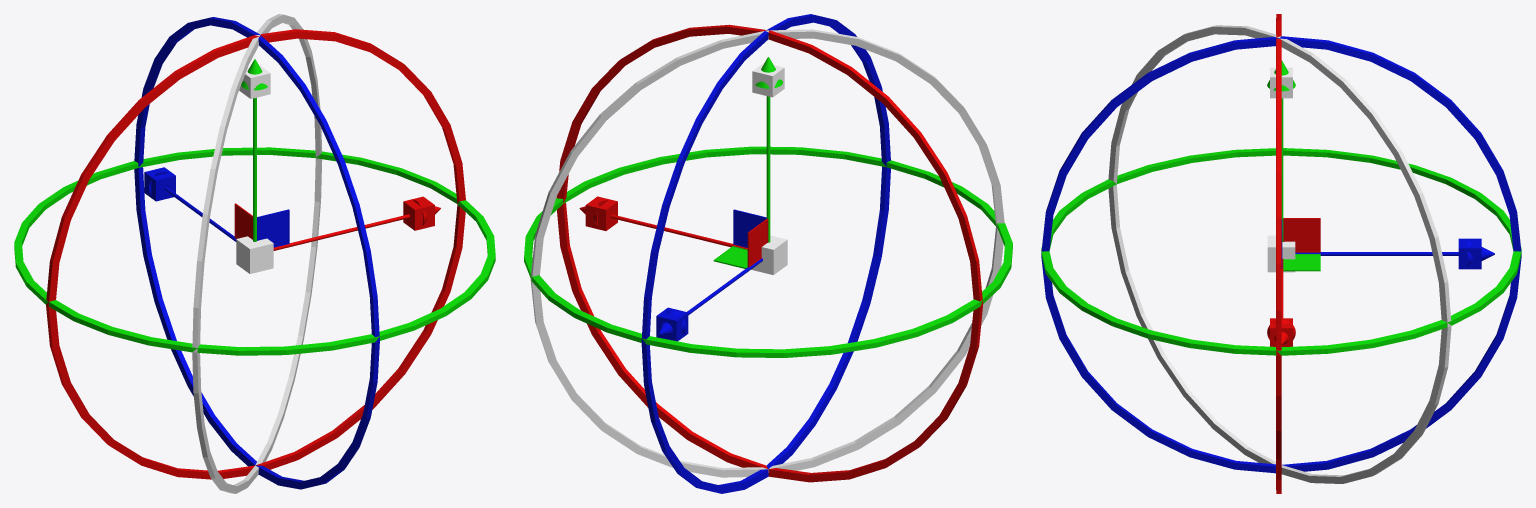
File: LevelEditorGizmos.fbx
3 views of the same model, side by side, from view 1: azimuth 30°, elevation 25°; view 2: azimuth 150°, elevation 25°; view 3: azimuth 270°, elevation 25° (orthographic).
Visible parts, largest first — view 1: RightRotation, ForwardRotation, UpRotation, ViewRotation, AllScale, RightScale, UpRightDirection, ForwardScale, UpDirection, UpScale, UpForwardDirection; view 2: ViewRotation, RightRotation, ForwardRotation, UpRotation, UpDirection, RightScale, AllScale, UpScale, UpRightDirection, ForwardScale, UpForwardDirection, ForwardDirection (+2 smaller); view 3: ForwardRotation, ViewRotation, UpRotation, RightRotation, UpForwardDirection, ForwardScale, ForwardDirection, AllScale, RightForwardDirection, UpDirection.
Boxes of the visible parts, box(x1,y1,x2,y2) form: RightRotation: box(46, 29, 465, 479); ForwardRotation: box(134, 17, 379, 489); UpRotation: box(14, 147, 495, 355); ViewRotation: box(192, 14, 322, 493); AllScale: box(236, 236, 273, 273); RightScale: box(273, 196, 434, 250); UpRightDirection: box(257, 209, 289, 247); ForwardScale: box(144, 167, 235, 241); UpDirection: box(241, 59, 267, 241); UpScale: box(239, 65, 270, 98); UpForwardDirection: box(234, 203, 252, 239); ViewRotation: box(530, 29, 1004, 477); RightRotation: box(556, 24, 983, 482); ForwardRotation: box(641, 14, 890, 493); UpRotation: box(524, 146, 1012, 357); UpDirection: box(755, 57, 782, 242); RightScale: box(585, 196, 730, 247); AllScale: box(751, 235, 787, 274); UpScale: box(752, 62, 784, 97); UpRightDirection: box(733, 209, 766, 247); ForwardScale: box(656, 307, 688, 341); UpForwardDirection: box(747, 219, 768, 267); ForwardDirection: box(659, 258, 762, 335); ForwardRotation: box(1041, 36, 1521, 473); ViewRotation: box(1108, 25, 1451, 483); UpRotation: box(1041, 148, 1521, 355); RightRotation: box(1276, 14, 1281, 493); UpForwardDirection: box(1283, 218, 1320, 252); ForwardScale: box(1320, 238, 1481, 269); ForwardDirection: box(1295, 240, 1494, 265); AllScale: box(1267, 235, 1295, 272); RightForwardDirection: box(1283, 254, 1320, 271); UpDirection: box(1267, 60, 1295, 241).
Size of the model in its own units: 1283 by 1283 by 1283.
